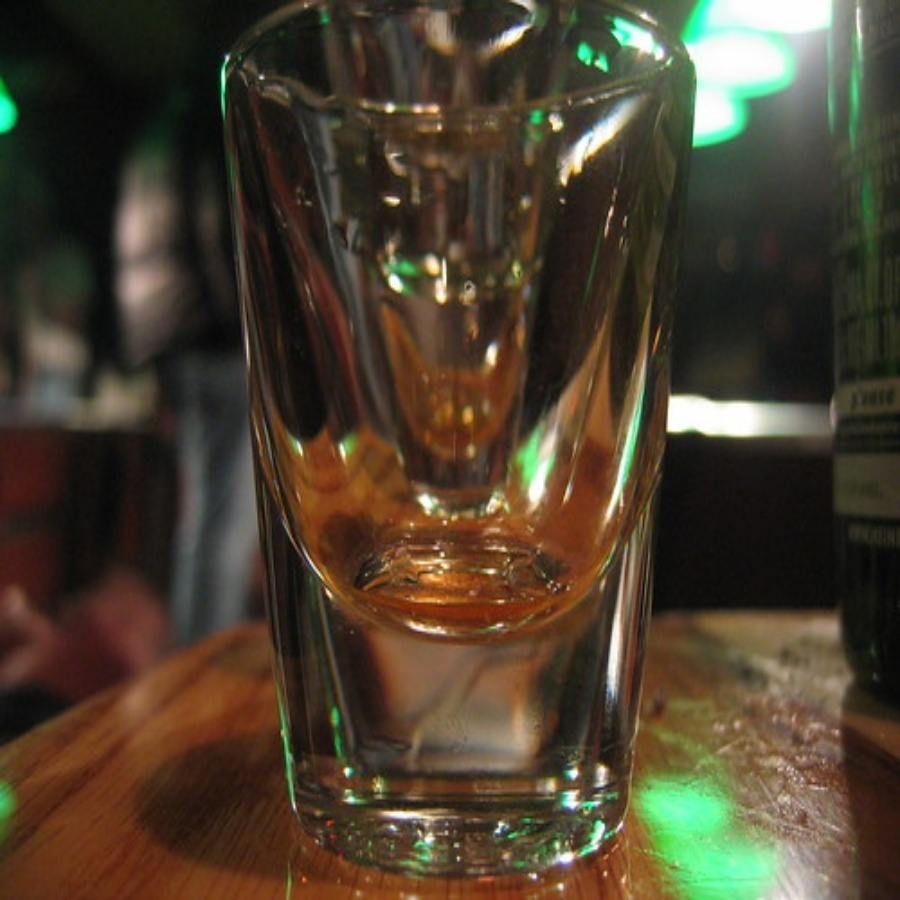whiskey: (216, 35, 696, 844)
